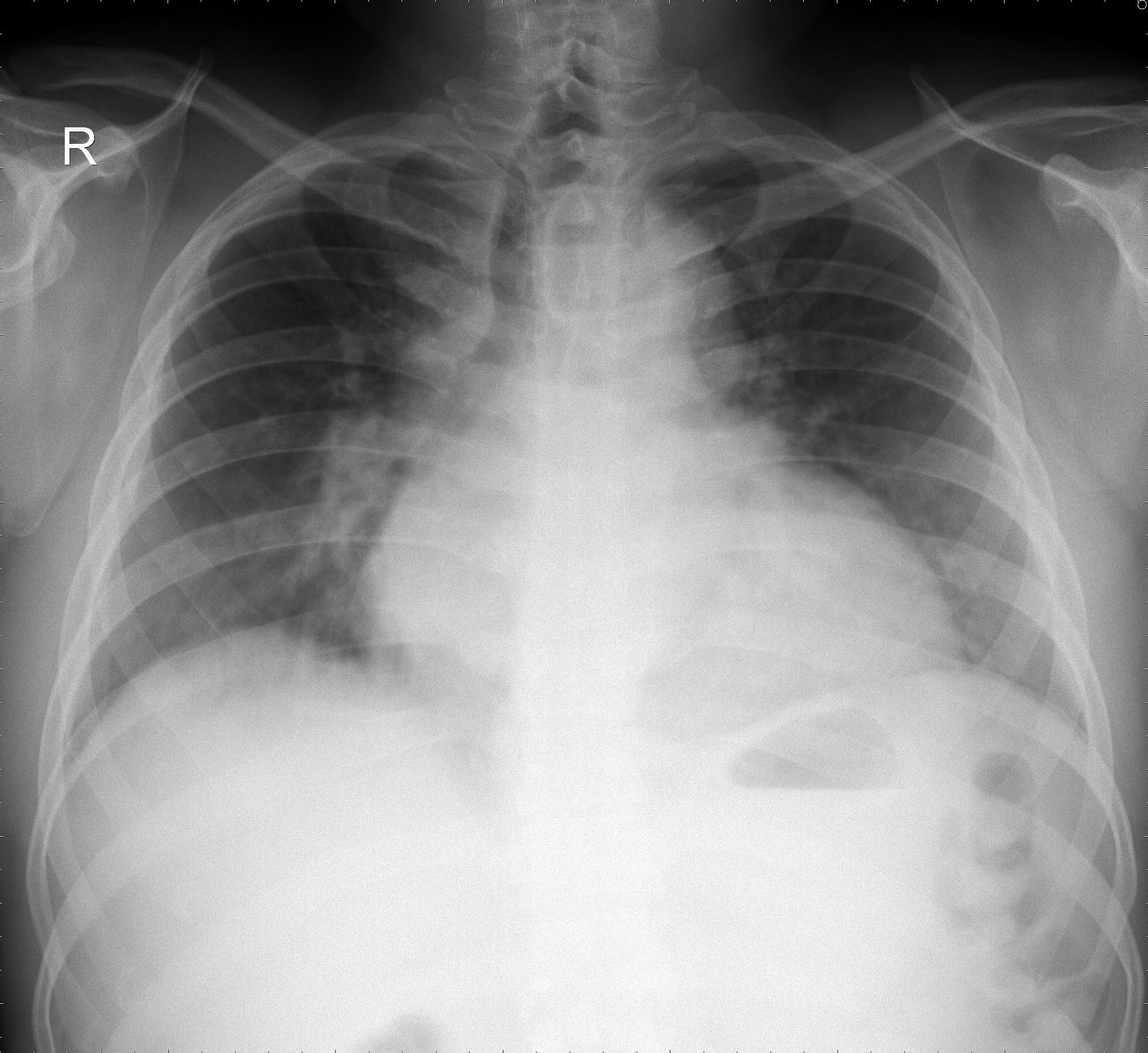Aortic enlargement: (555, 201, 737, 417)
Cardiomegaly: (343, 514, 968, 703)
